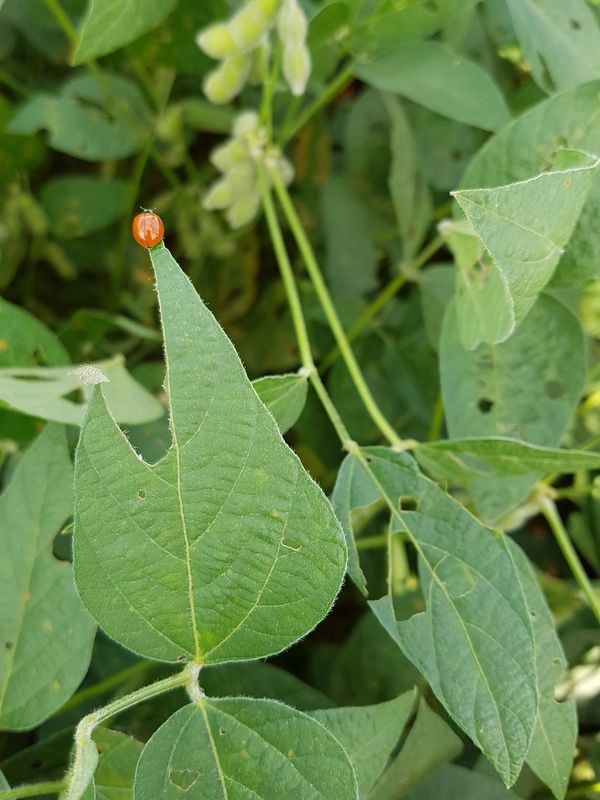Coccinellidae: (120, 200, 170, 257)
